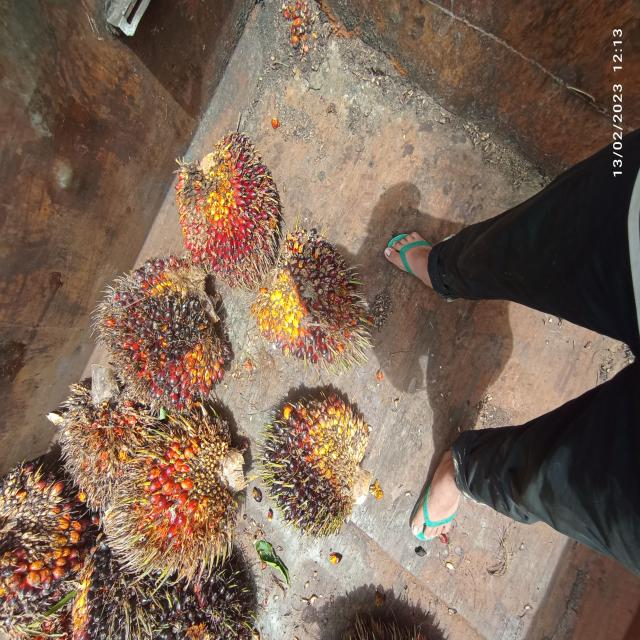fraksi 00: (255, 372, 372, 542)
fraksi 1: (80, 225, 244, 422), (252, 208, 375, 386)
fraksi 3: (84, 391, 266, 578)
fraksi 4: (156, 102, 278, 294), (53, 369, 155, 506)
